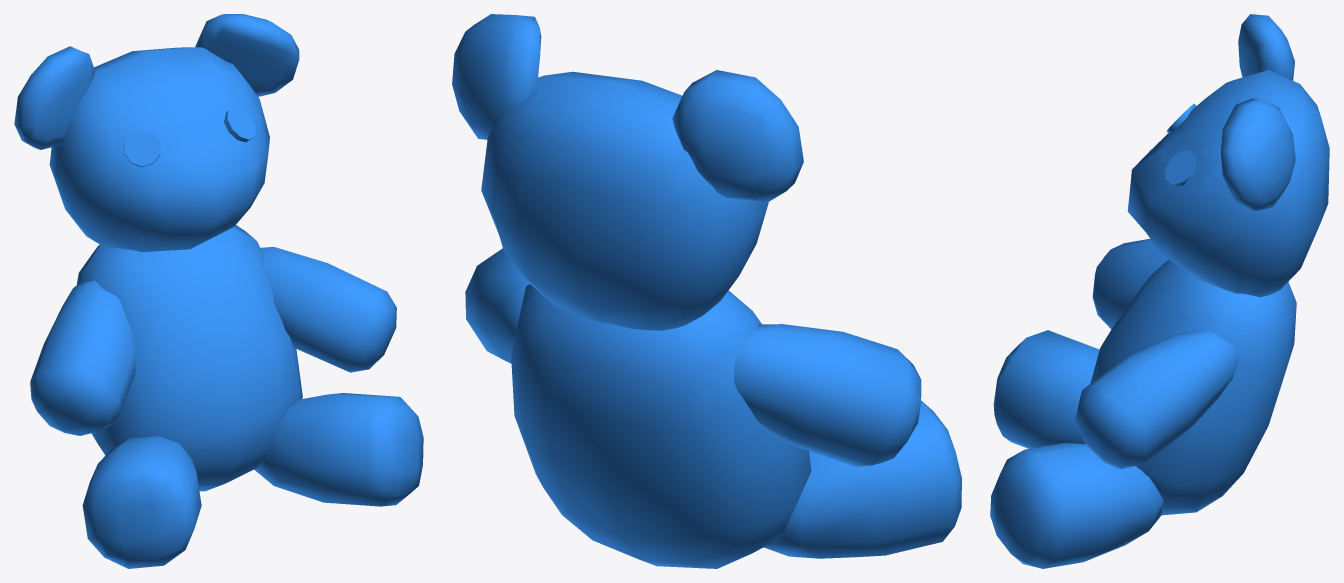
Rendered from bear_big.fbx.
3 views of the same model, side by side, from view 1: azimuth 30°, elevation 25°; view 2: azimuth 150°, elevation 25°; view 3: azimuth 270°, elevation 25° (orthographic). The views are drawn at different scales.
Parts seen in each view (by area): view 1: bear_big; view 2: bear_big; view 3: bear_big.
Part boxes in pixels (x1,y1,x2,y2): bear_big: [14, 14, 423, 568]; bear_big: [452, 14, 961, 568]; bear_big: [990, 14, 1329, 568].
Bounding box in the file's own units: 220 × 257 × 179.
